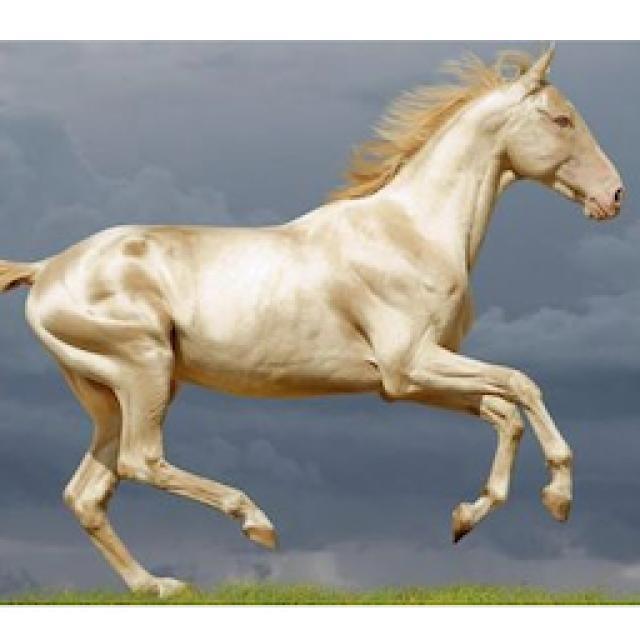Horse: (0, 40, 632, 597)
